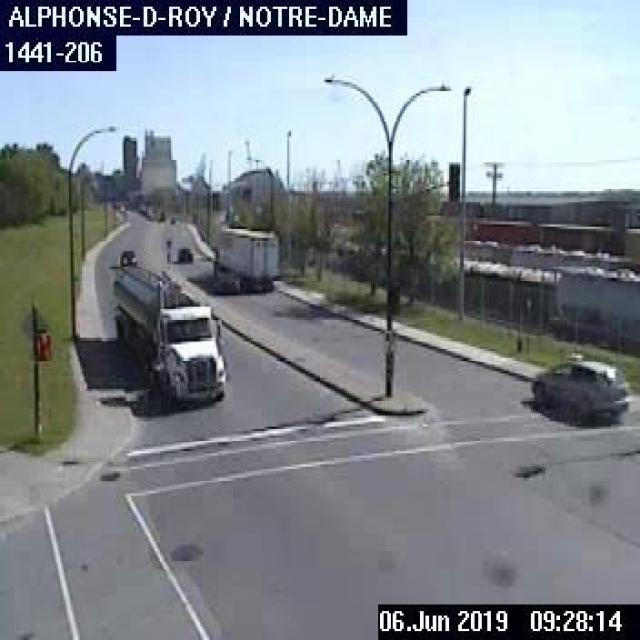vehicle: (108, 264, 228, 398), (528, 358, 628, 427), (209, 224, 276, 296), (172, 244, 192, 264), (117, 246, 136, 266)
